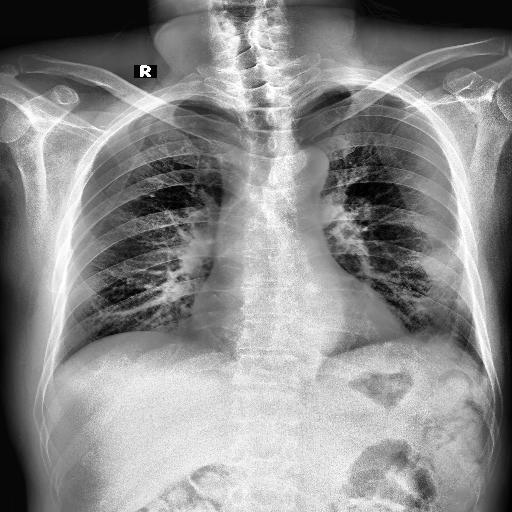0- Aortic enlargement: (278, 142, 330, 184)
7- Lung Opacity: (416, 242, 472, 346), (425, 218, 471, 340), (416, 238, 464, 287)
8- Nodule-Mass: (416, 238, 464, 287)
